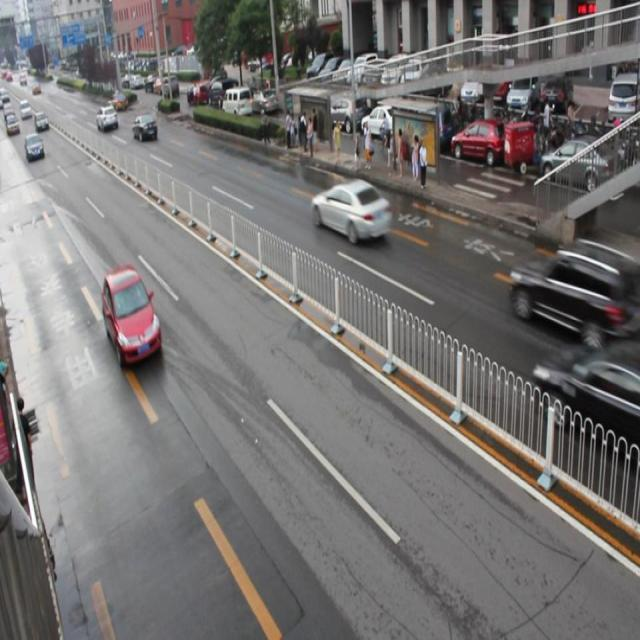car: (507, 246, 640, 351), (530, 346, 640, 468), (102, 265, 161, 364), (308, 180, 390, 242), (132, 114, 158, 142)
